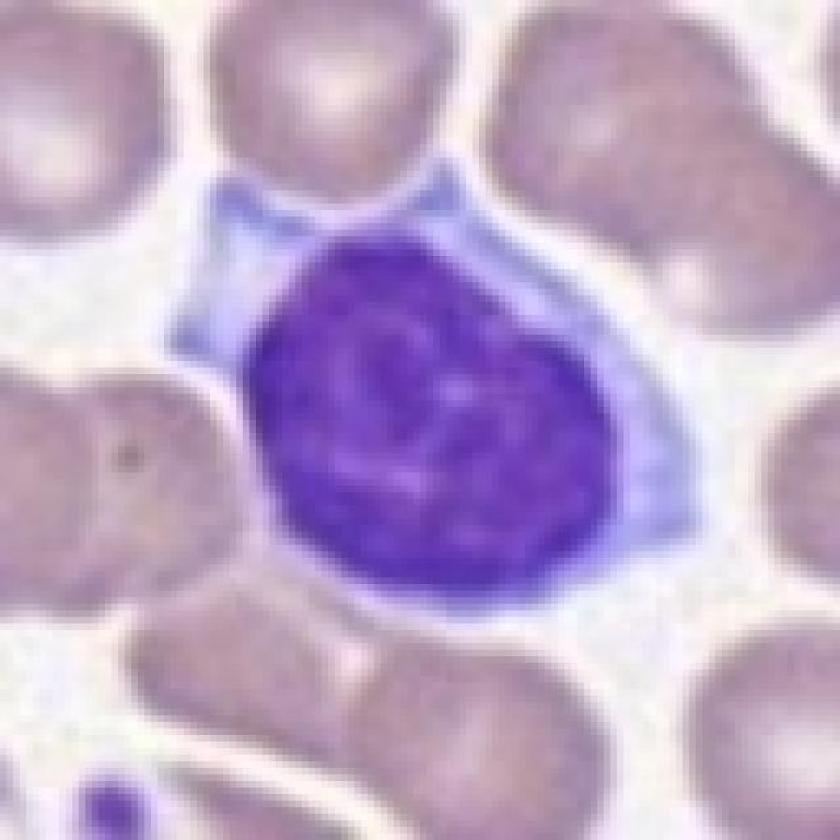lymphocyte: (159, 139, 718, 620)
